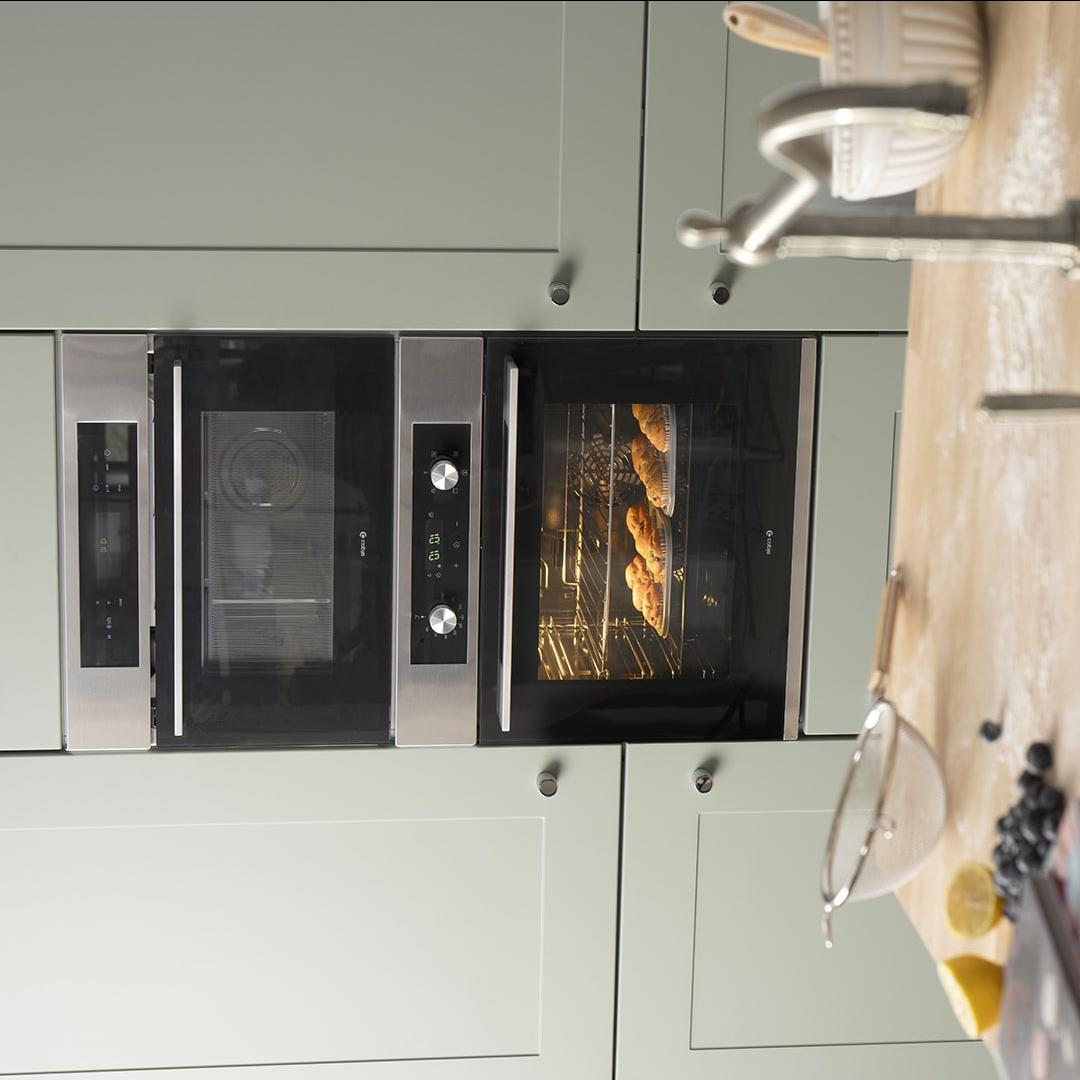controlled_fire: (488, 370, 728, 695)
